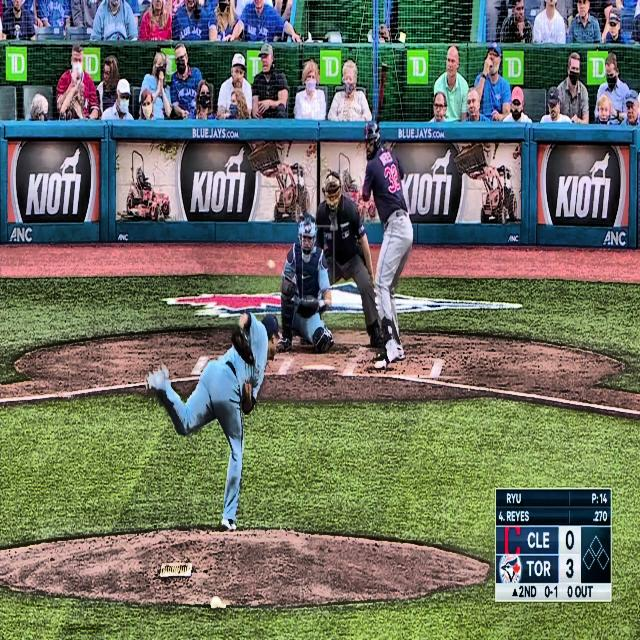baseball: (267, 258, 276, 272)
